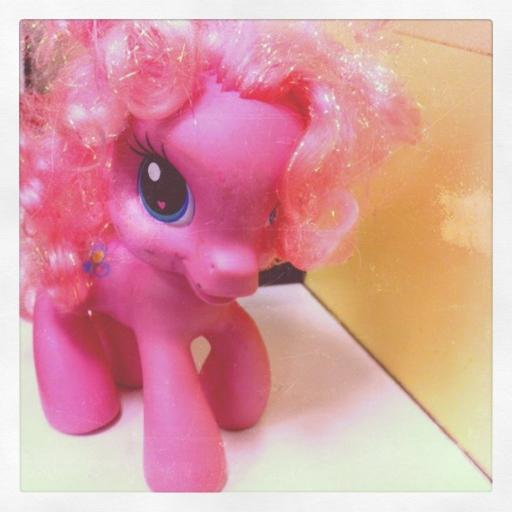horse: (18, 16, 425, 493)
